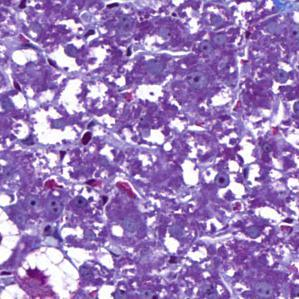ballooning: (14, 244, 83, 295)
